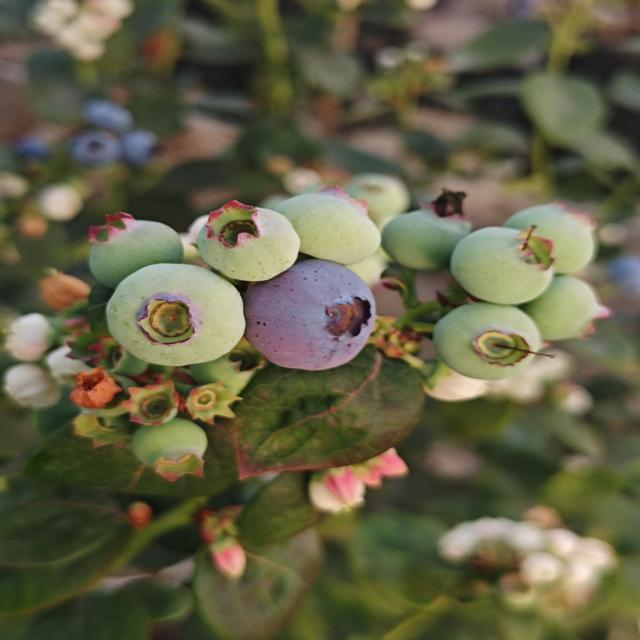ripe: (238, 262, 386, 365), (81, 98, 142, 136), (64, 131, 123, 169), (117, 125, 169, 163), (4, 136, 56, 170)
